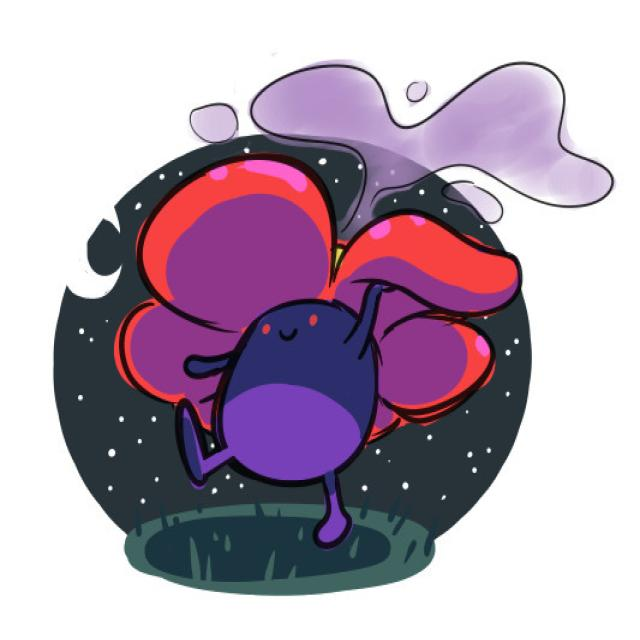Vileplume: (130, 166, 524, 485)
